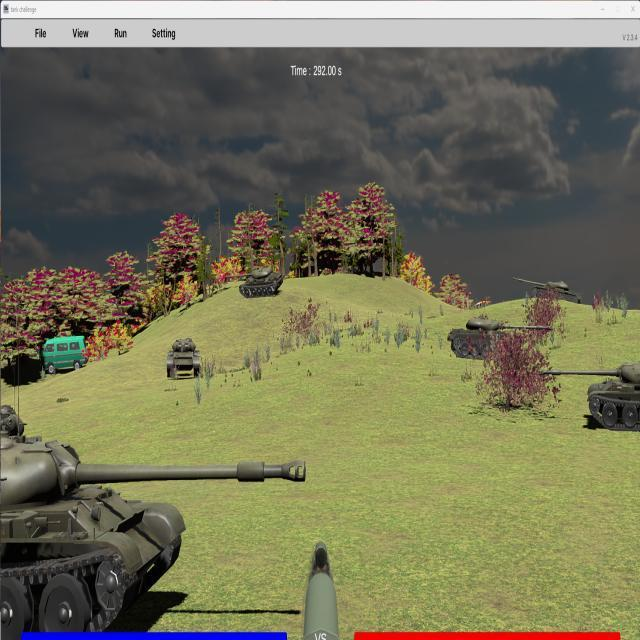Tank: (0, 430, 308, 638), (539, 359, 640, 435), (447, 314, 550, 361), (512, 277, 582, 307), (220, 266, 283, 298), (166, 337, 202, 380)
car: (38, 336, 88, 375)
